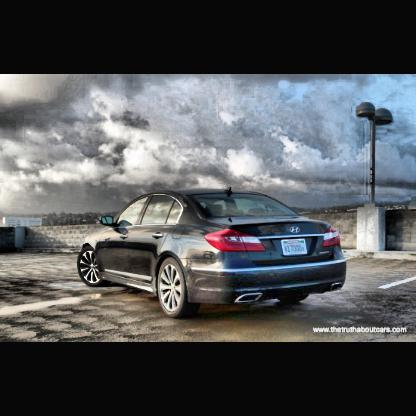Hyundai Genesis Sedan 2012: (79, 191, 347, 317)
